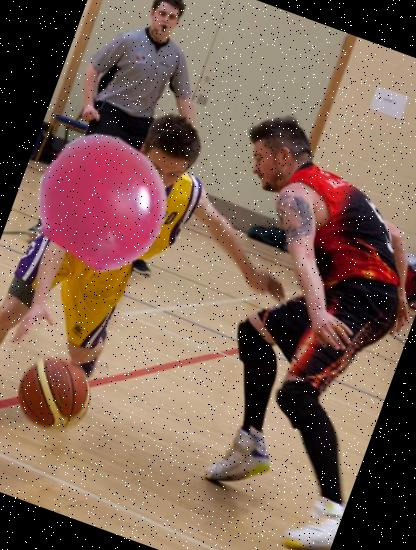Redcurrant: (20, 118, 186, 285)
